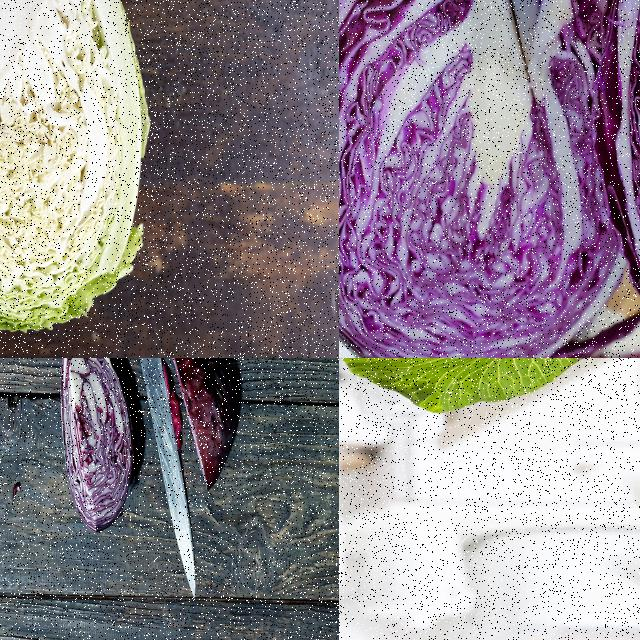cabbage: (339, 0, 635, 357), (0, 0, 157, 357), (339, 358, 639, 420), (59, 358, 134, 534), (162, 358, 236, 491)
